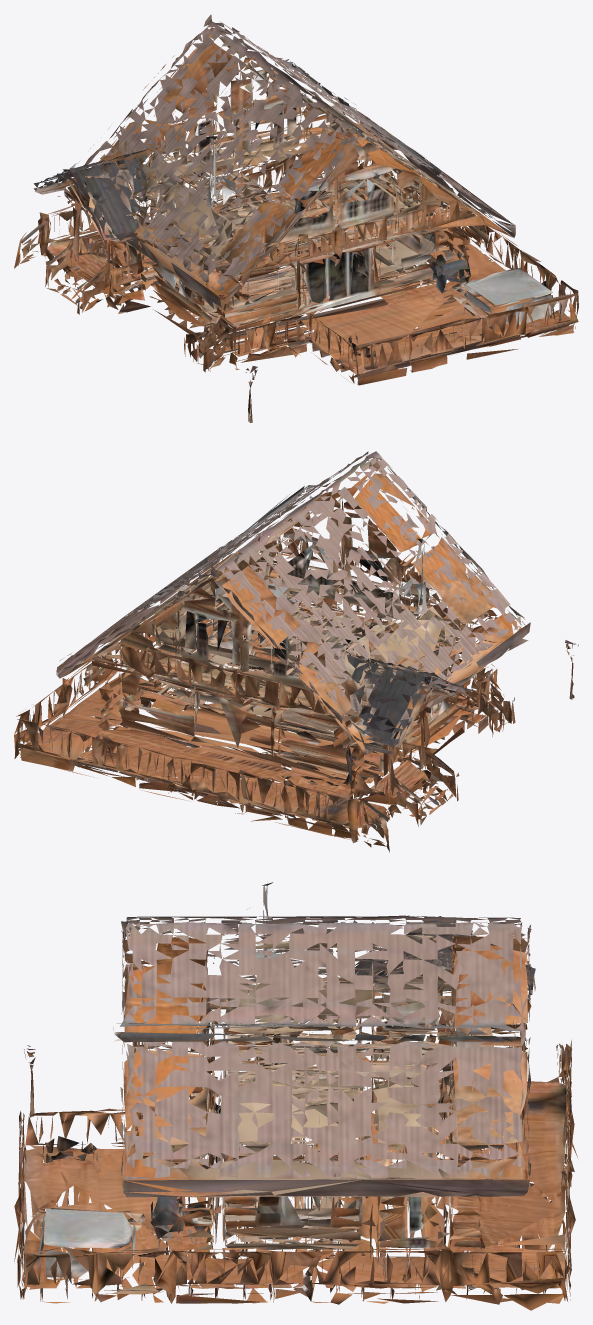
The model's file is nhasan_opt.glb.
3 renders of one model, top to bottom at view 1: azimuth 30°, elevation 25°; view 2: azimuth 150°, elevation 25°; view 3: azimuth 270°, elevation 25°, orthographic. The views are drawn at different scales.
Parts seen in each view (by area): view 1: nhasan_opt; view 2: nhasan_opt; view 3: nhasan_opt.
Boxes of the visible parts, bbox=[...] form: nhasan_opt: bbox=[14, 14, 578, 422]; nhasan_opt: bbox=[14, 451, 578, 852]; nhasan_opt: bbox=[14, 882, 577, 1310].
Bounding box in the file's own units: 1.85 × 1.13 × 1.93.
Materials: 1 (1 with a texture image).
